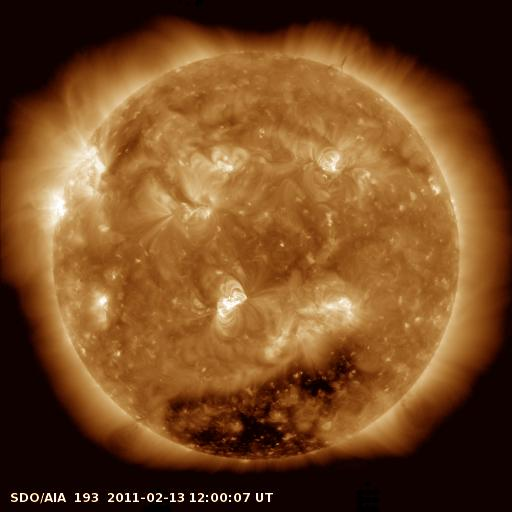coronal_hole: (156, 340, 366, 466)
